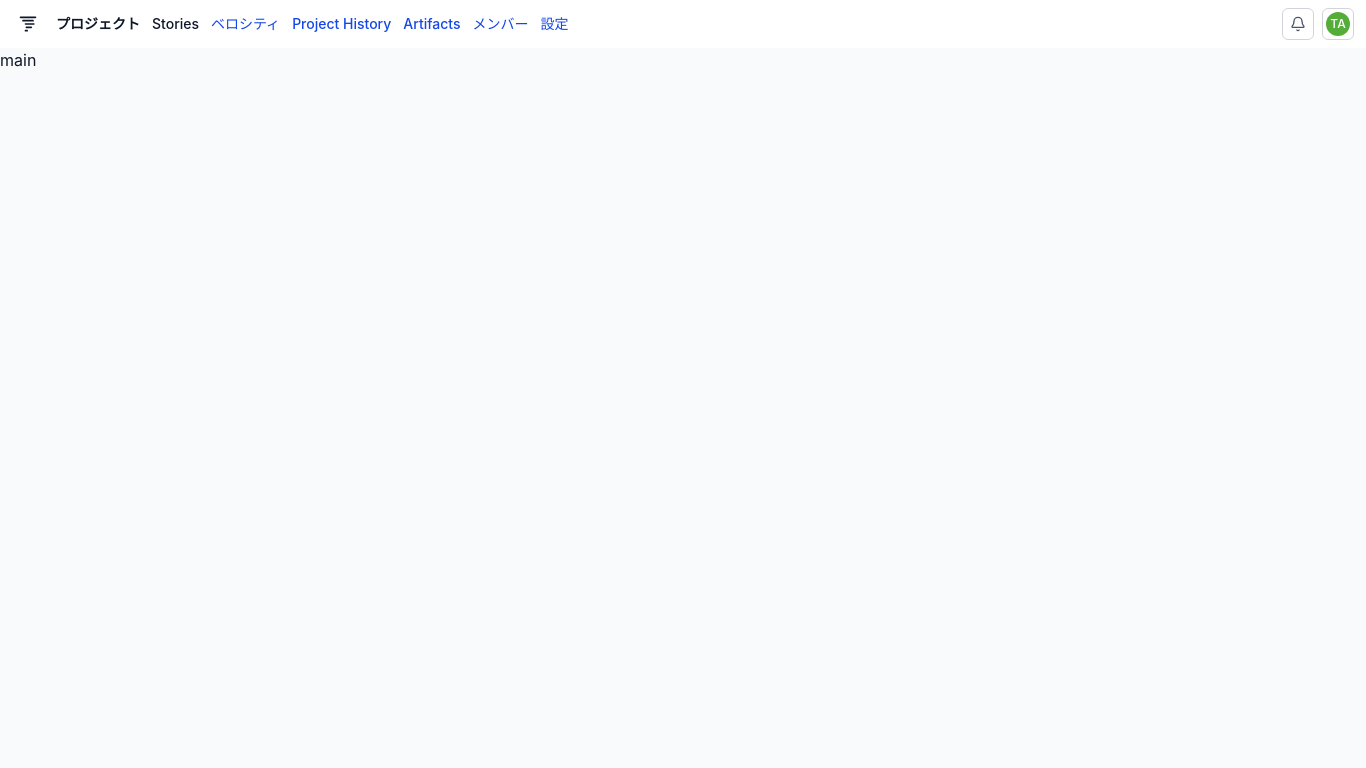
Layout › opens notification panel and lists notifications
Expected: the button with aria-label "ユーザーメニュー" is shown, [1322,8,1354,40]
Step 1. Click the button named "通知" → [1298, 24], box [1282,8,1314,40]
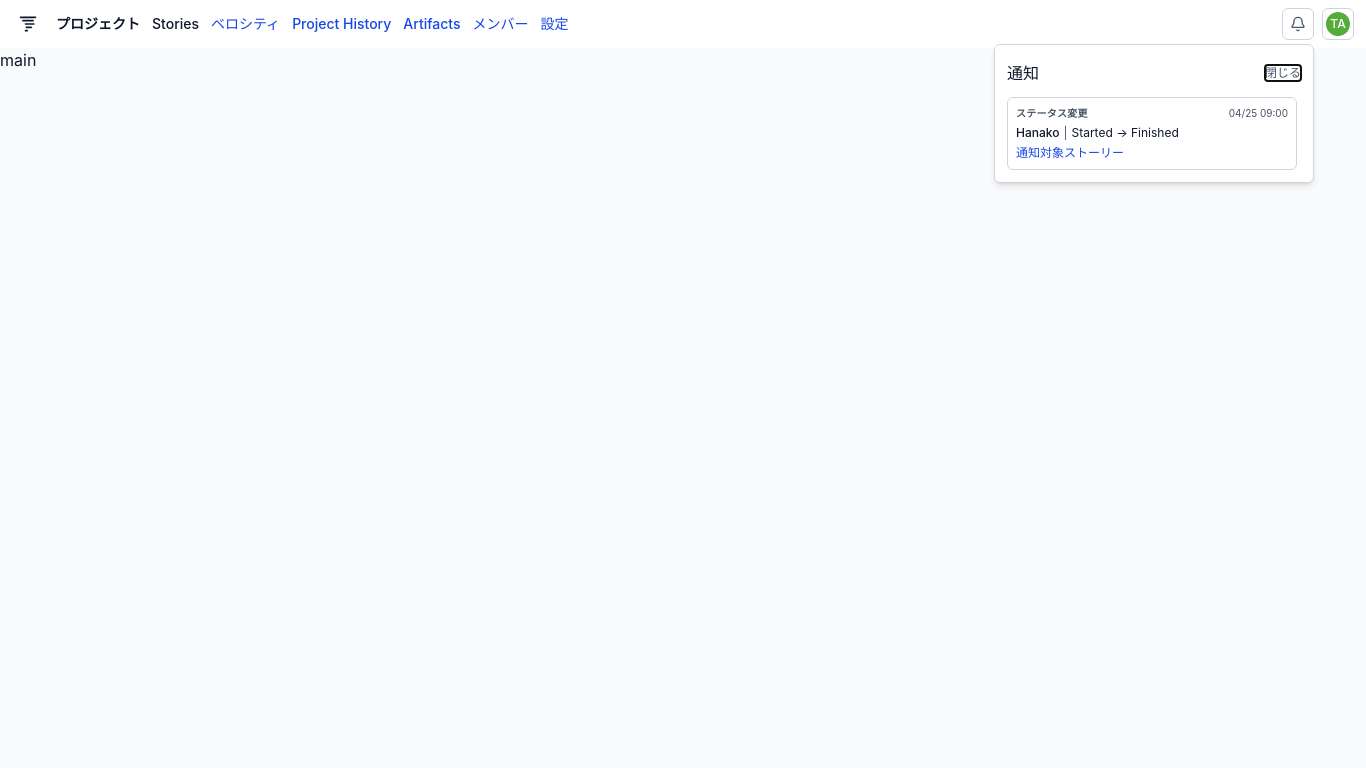
Expected: the link "通知対象ストーリー" is shown, [1016,145,1124,160]
Expected: the text "Hanako" is shown, [1016,125,1060,140]
